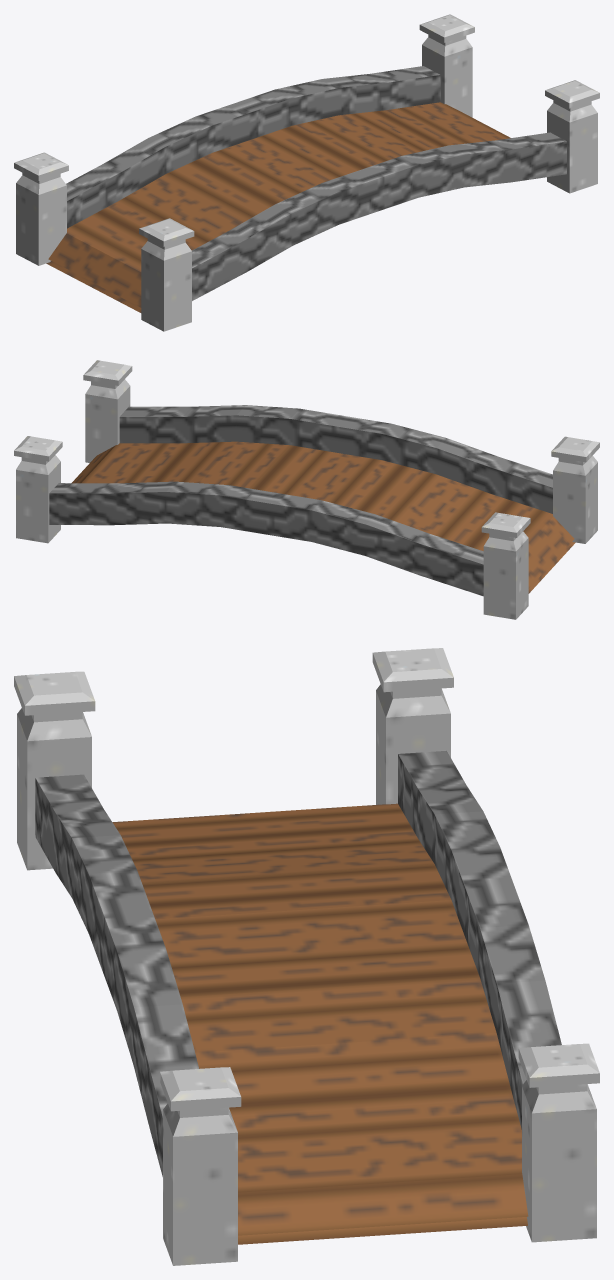
File: bridge_01.fbx
The picture shows the model from 3 angles, top to bottom: view 1: azimuth 30°, elevation 25°; view 2: azimuth 150°, elevation 25°; view 3: azimuth 270°, elevation 25°; orthographic projection. The views are drawn at different scales.
Visible parts, largest first — view 1: bridge; view 2: bridge; view 3: bridge.
Boxes of the visible parts, x1=… form: bridge: x1=14, y1=14, x2=599, y2=331; bridge: x1=14, y1=360, x2=599, y2=619; bridge: x1=14, y1=648, x2=599, y2=1265.
Bounding box in the file's own units: 979 × 176 × 535.
3 materials, 3 textured.
